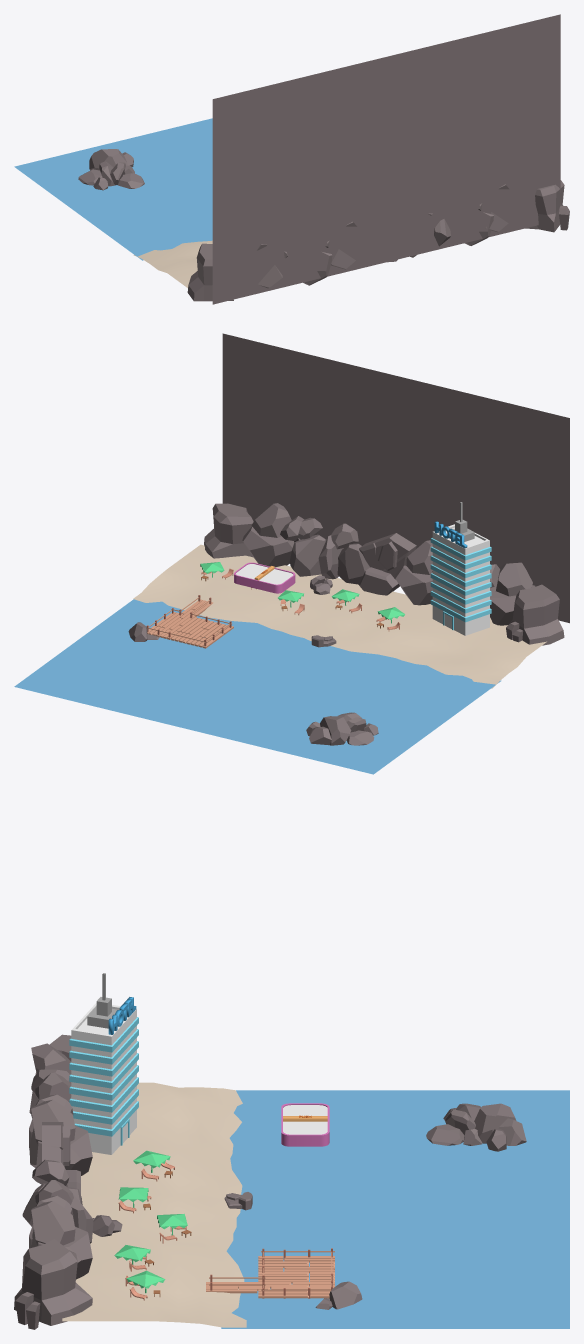
Rendered from level_3.fbx.
3 renders of one model, top to bottom at view 1: azimuth 30°, elevation 25°; view 2: azimuth 150°, elevation 25°; view 3: azimuth 270°, elevation 25°, orthographic. The views are drawn at different scales.
Parts seen in each view (by area): view 1: deniz.001, deniz, kum, Rock_Type6_03_mesh.002, Rock_Type6_03_mesh.001, Rock_Type2_01_mesh.001, Rock_Type2_02_mesh.001, Rock_Type2_02_mesh.006, Rock_Type2_02_mesh.004, Rock_Type2_01_mesh.003; view 2: deniz.001, deniz, kum, Cube.011, Rock_Type6_03_mesh.001, Rock_Type2_01_mesh.004, Cube.001, Rock_Type1_03_mesh.002, Rock_Type2_02_mesh.003, Rock_Type6_03_mesh.002, Rock_Type2_01_mesh.003, Rock_Type2_01_mesh.002 (+4 smaller); view 3: deniz, kum, Cube.011, Rock_Type6_03_mesh.002, Cube.001, Rock_Type2_01_mesh.004, Rock_Type2_01_mesh.002, area, Rock_Type2_01_mesh.001, Rock_Type1_03_mesh.002, Rock_Type2_02_mesh.006, Rock_Type2_01_mesh.003 (+4 smaller).
Part boxes in pixels (x1,y1,x2,y2): deniz.001: [212, 14, 560, 304]; deniz: [14, 118, 212, 260]; kum: [133, 240, 212, 287]; Rock_Type6_03_mesh.002: [525, 180, 569, 232]; Rock_Type6_03_mesh.001: [187, 243, 233, 301]; Rock_Type2_01_mesh.001: [89, 149, 133, 170]; Rock_Type2_02_mesh.001: [78, 161, 115, 190]; Rock_Type2_02_mesh.006: [110, 162, 144, 188]; Rock_Type2_02_mesh.004: [303, 251, 332, 285]; Rock_Type2_01_mesh.003: [257, 244, 288, 288]; deniz.001: [222, 333, 569, 623]; deniz: [14, 599, 501, 774]; kum: [133, 544, 546, 688]; Cube.011: [430, 502, 491, 635]; Rock_Type6_03_mesh.001: [506, 584, 564, 645]; Rock_Type2_01_mesh.004: [242, 503, 303, 567]; Cube.001: [146, 595, 233, 648]; Rock_Type1_03_mesh.002: [359, 533, 416, 595]; Rock_Type2_02_mesh.003: [318, 523, 369, 584]; Rock_Type6_03_mesh.002: [204, 503, 253, 558]; Rock_Type2_01_mesh.003: [490, 562, 535, 625]; Rock_Type2_01_mesh.002: [394, 540, 432, 605]; deniz: [221, 1090, 569, 1328]; kum: [62, 1082, 246, 1327]; Cube.011: [69, 973, 138, 1154]; Rock_Type6_03_mesh.002: [14, 1239, 92, 1329]; Cube.001: [206, 1248, 334, 1298]; Rock_Type2_01_mesh.004: [31, 1195, 92, 1279]; Rock_Type2_01_mesh.002: [29, 1094, 92, 1175]; area: [281, 1103, 329, 1146]; Rock_Type2_01_mesh.001: [474, 1103, 526, 1151]; Rock_Type1_03_mesh.002: [42, 1122, 80, 1194]; Rock_Type2_02_mesh.006: [426, 1109, 482, 1145]; Rock_Type2_01_mesh.003: [29, 1043, 71, 1113].
Bounding box in the file's own units: 10165 × 5981 × 9830.
